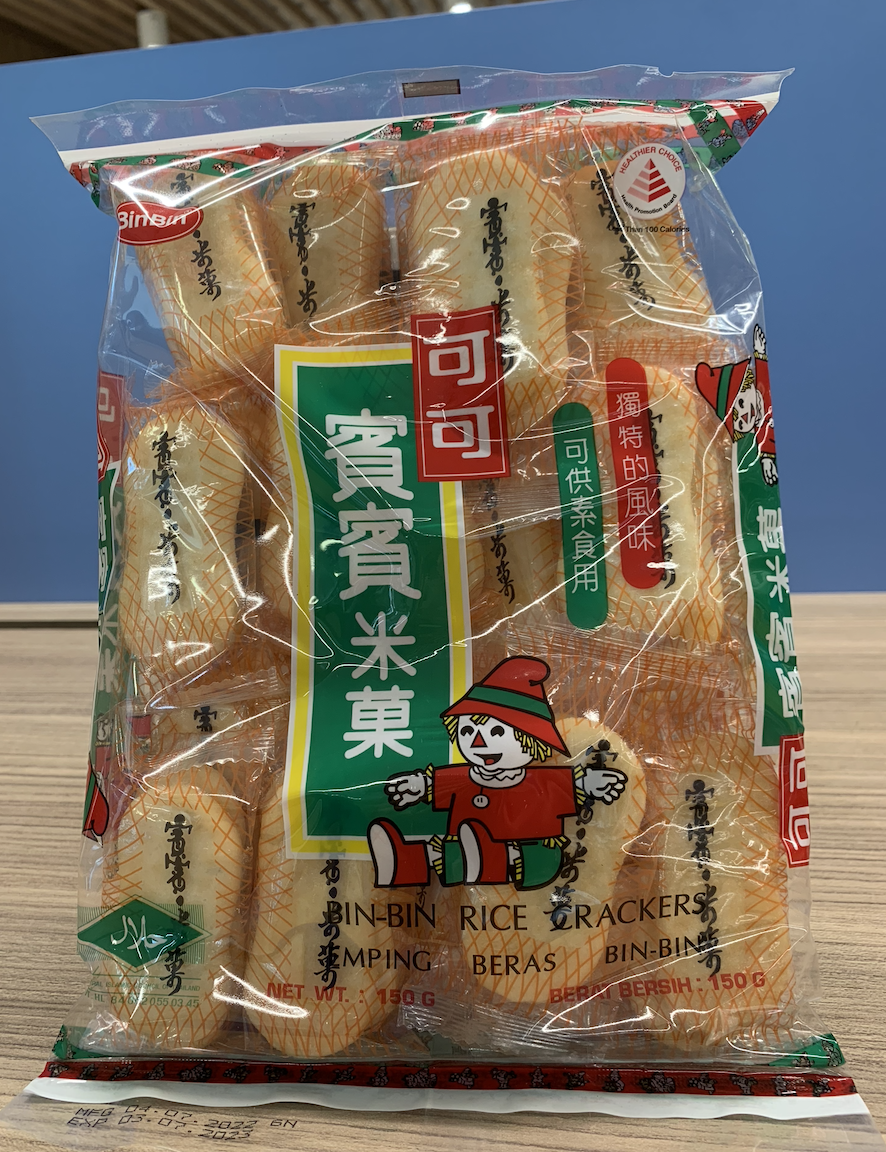crackers_150g: (109, 142, 777, 1067)
